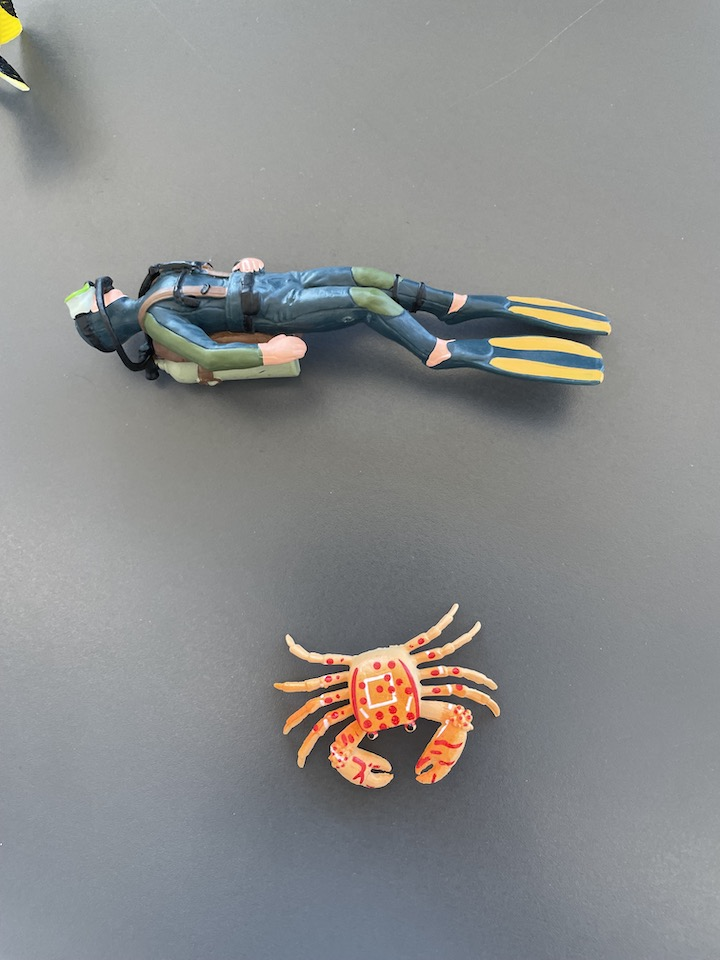crab: (275, 600, 506, 793)
danger: (1, 1, 36, 102)
diver: (56, 251, 617, 397)
